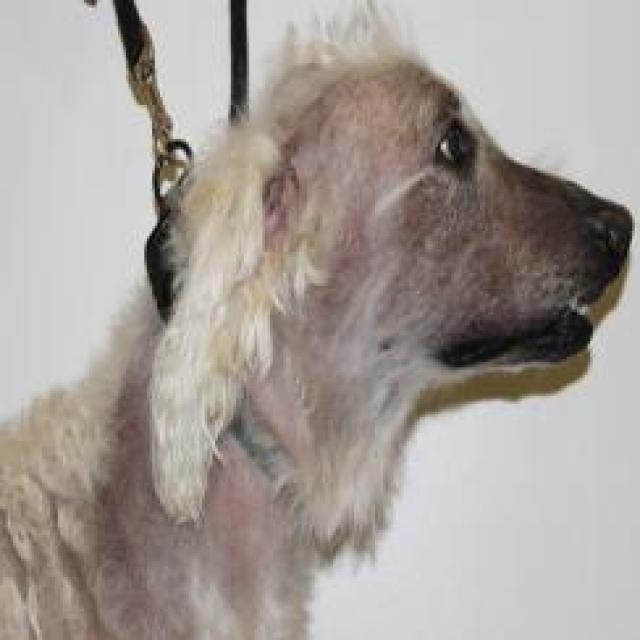fungal infection: (196, 382, 314, 536), (254, 123, 314, 249)
